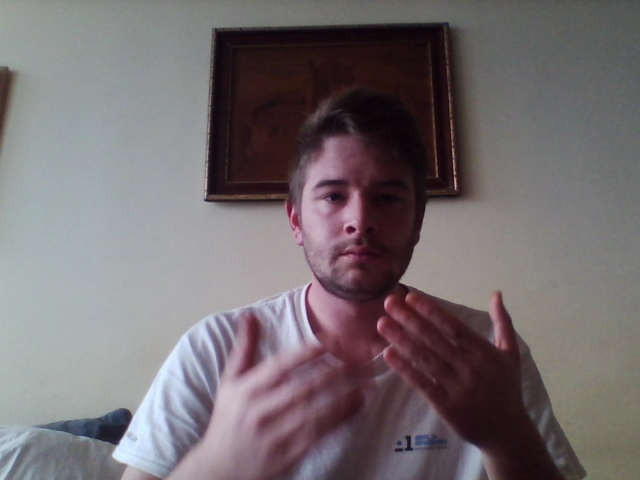hvala: (210, 287, 522, 474)
